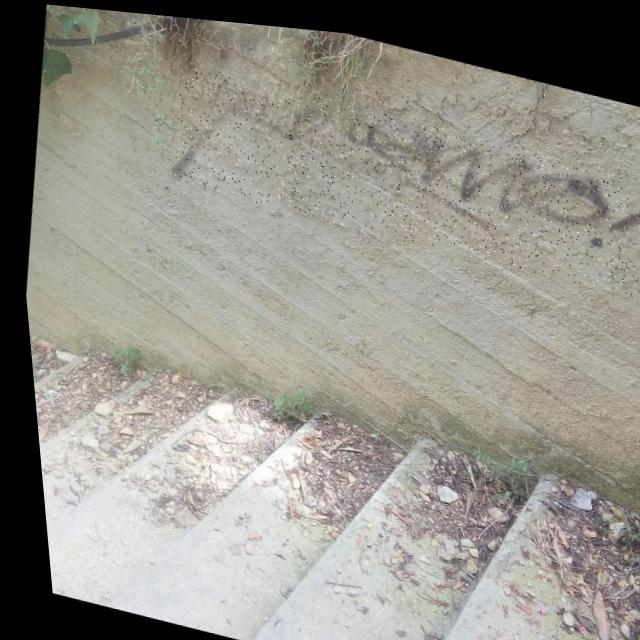-: (162, 58, 640, 292)
